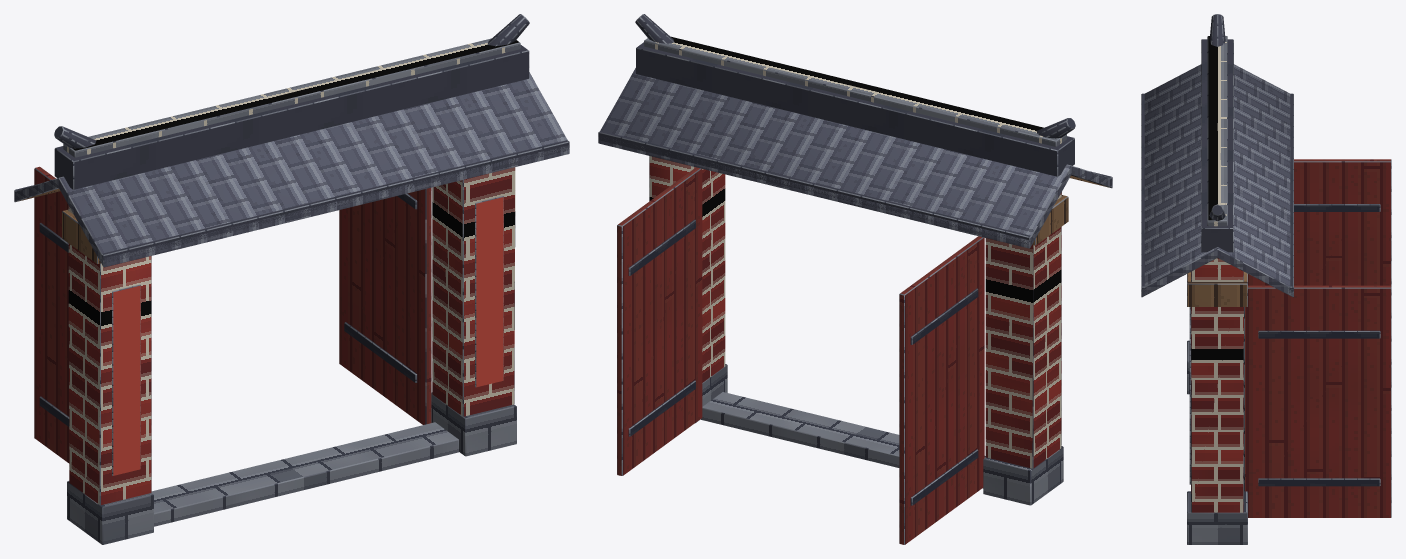
The model's file is cn_courtyard_gate_3.glb.
3 views of the same model, side by side, from view 1: azimuth 30°, elevation 25°; view 2: azimuth 150°, elevation 25°; view 3: azimuth 270°, elevation 25° (orthographic). The views are drawn at different scales.
Parts seen in each view (by area): view 1: cn_courtyard_gate_4; view 2: cn_courtyard_gate_4; view 3: cn_courtyard_gate_4.
Boxes of the visible parts, x1,y1,x2,y2 form: cn_courtyard_gate_4: (14, 14, 569, 544); cn_courtyard_gate_4: (598, 14, 1112, 544); cn_courtyard_gate_4: (1141, 14, 1391, 544).
Size of the model in its own units: 4.56 by 3.78 by 2.46.
10 materials, 10 textured.
